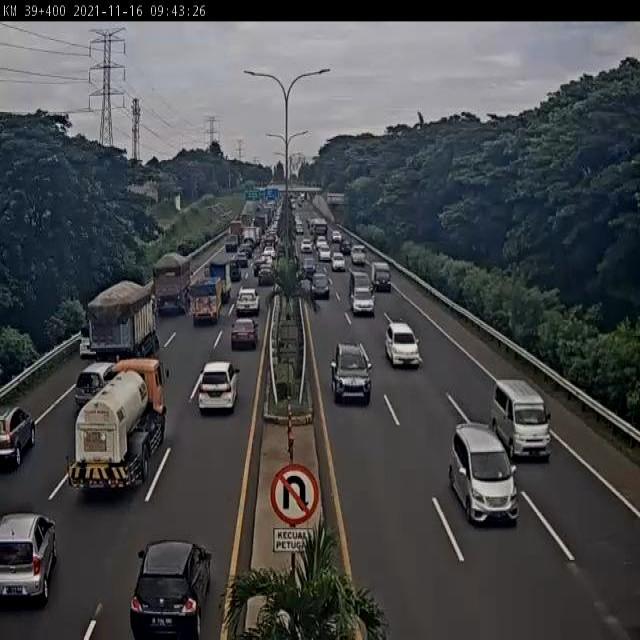Car: (129, 539, 211, 639), (450, 423, 518, 524), (488, 375, 556, 465), (1, 512, 57, 604), (330, 341, 372, 405), (0, 406, 37, 469), (198, 360, 240, 414), (75, 361, 119, 410), (386, 318, 422, 368), (348, 272, 375, 315), (230, 316, 259, 350), (235, 286, 261, 318), (370, 261, 391, 293), (310, 272, 330, 300), (258, 264, 276, 286), (302, 258, 317, 280), (228, 259, 242, 282), (237, 245, 252, 266), (351, 246, 366, 266), (331, 252, 346, 272), (225, 233, 239, 252), (318, 244, 332, 262), (340, 237, 352, 254), (300, 238, 312, 253), (331, 230, 342, 243)
Truck: (60, 350, 166, 500), (88, 278, 158, 363), (153, 253, 192, 320), (188, 276, 224, 326), (208, 259, 234, 304)
